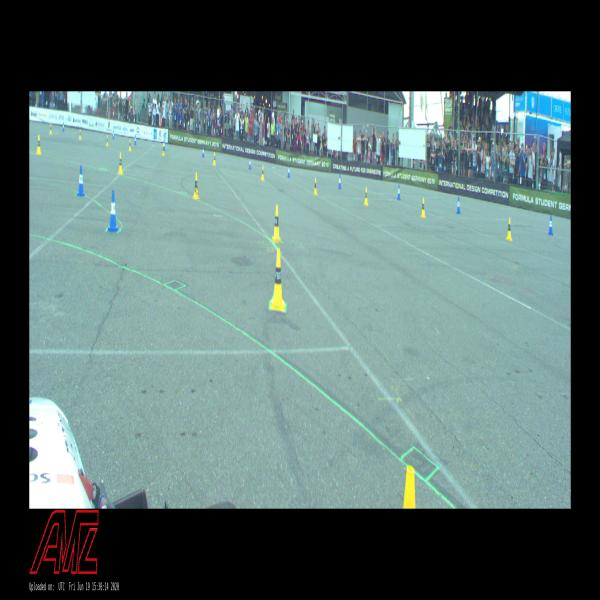blue_cone: (107, 190, 119, 232), (77, 165, 85, 196), (548, 216, 553, 236), (456, 197, 461, 214), (397, 184, 401, 200), (248, 157, 252, 169), (338, 174, 341, 189), (134, 134, 137, 145), (288, 164, 290, 178), (112, 130, 115, 139), (62, 123, 65, 131), (202, 146, 204, 157), (164, 140, 165, 150)
yellow_cone: (271, 249, 285, 311), (272, 203, 281, 242), (193, 172, 199, 199), (117, 152, 124, 175), (506, 217, 512, 241), (36, 134, 42, 156), (420, 197, 426, 218), (313, 177, 318, 195), (364, 186, 368, 205), (261, 165, 265, 181), (128, 138, 132, 152), (78, 129, 82, 140), (213, 152, 216, 166), (162, 143, 165, 156), (106, 135, 109, 146), (49, 124, 52, 134)
